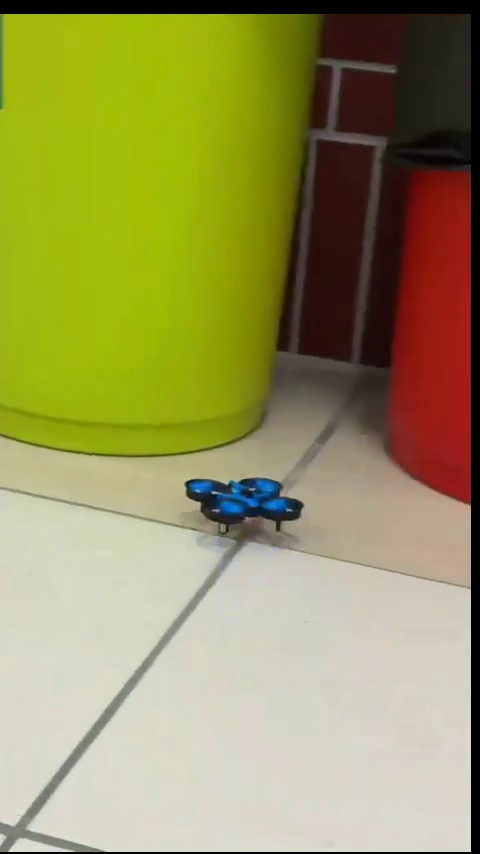drone: (189, 473, 298, 531)
